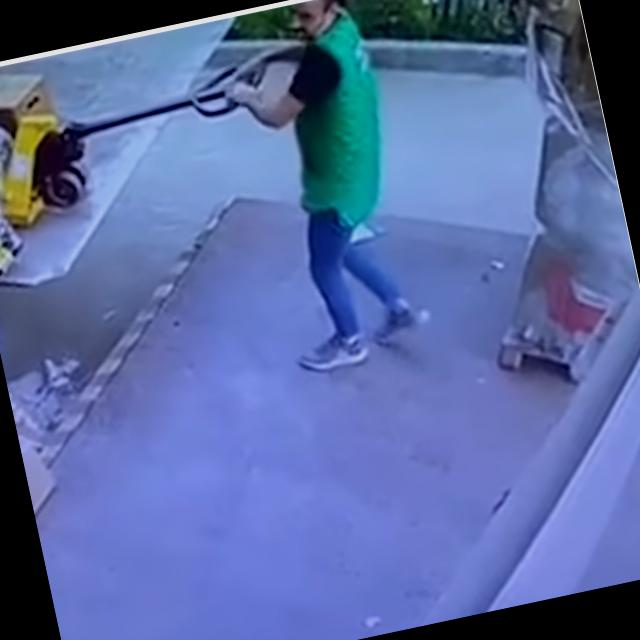person: (212, 0, 435, 380)
